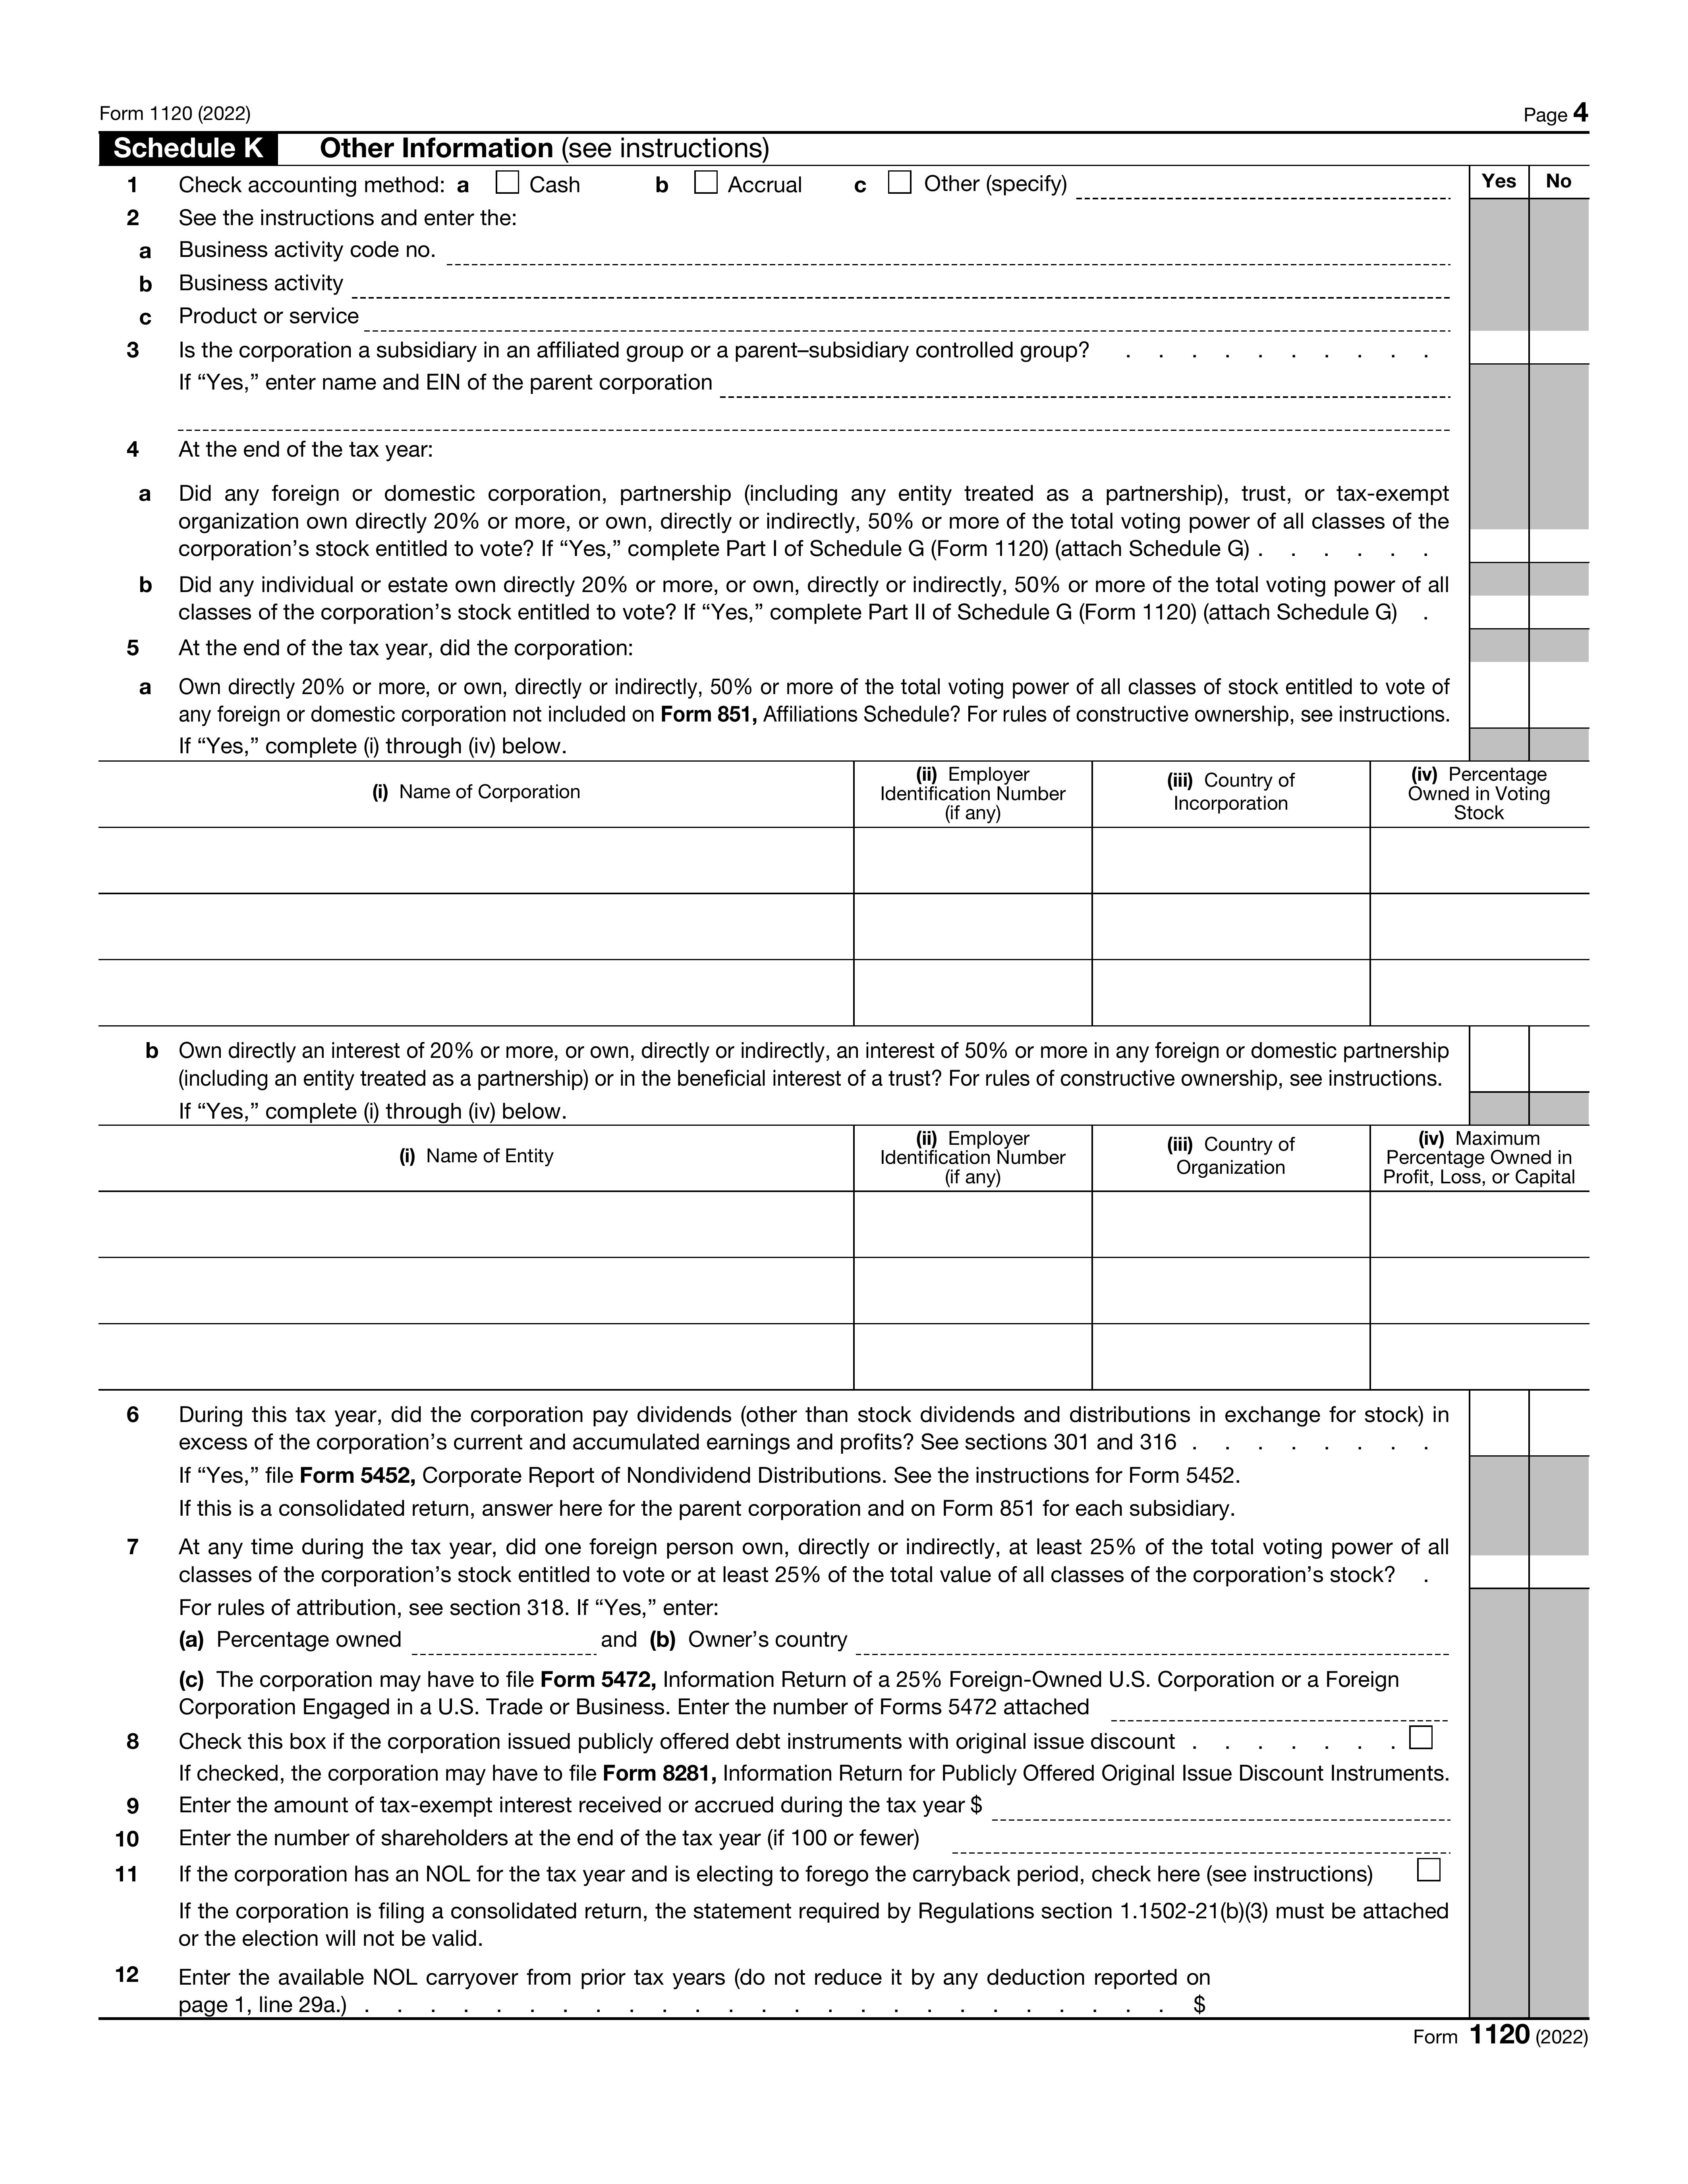table: (85, 129, 1615, 761), (64, 1399, 1605, 2019), (80, 761, 1606, 1023), (71, 1126, 1606, 1386), (76, 1019, 1617, 1127)
